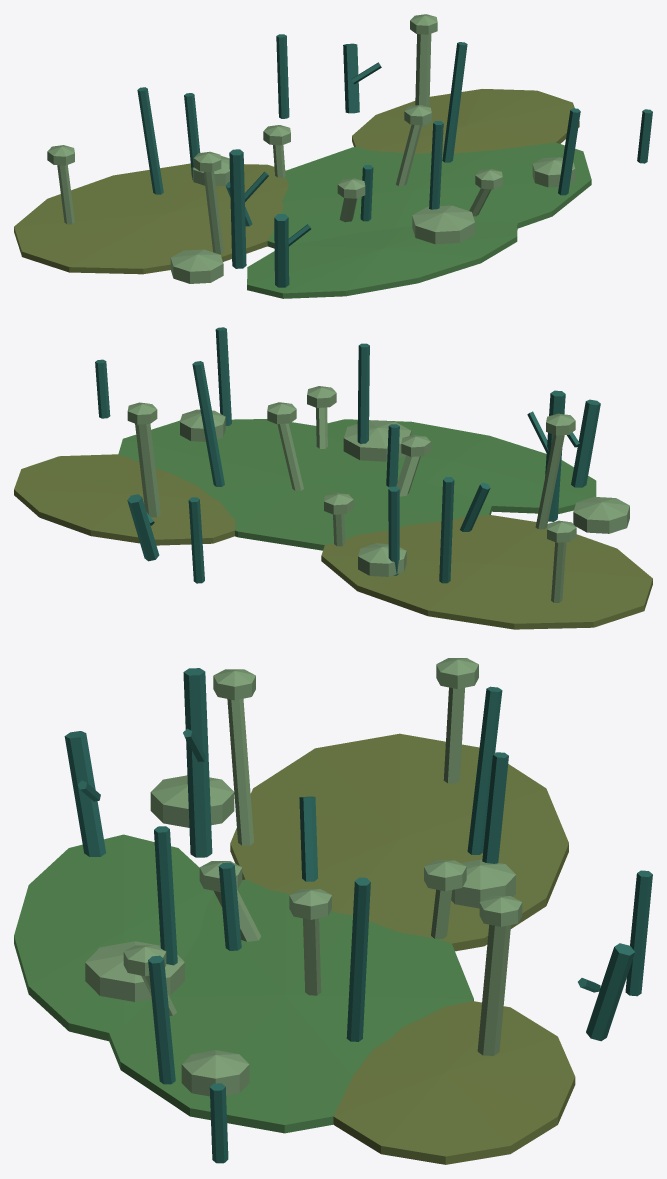
Rendered from vegetation_mat_b.obj.
3 views of the same model, one above another, from view 1: azimuth 30°, elevation 25°; view 2: azimuth 150°, elevation 25°; view 3: azimuth 270°, elevation 25° (orthographic). The views are drawn at different scales.
Parts seen in each view (by area): view 1: mat_0, mat_1, mat_3, mat_2, filter_cup_2, filter_16, filter_cup_0, filter_7, filter_14, filter_12, filter_8, filter_4 (+18 smaller); view 2: mat_0, mat_1, mat_2, mat_3, filter_cup_0, filter_cup_2, filter_7, filter_12, filter_8, filter_14, filter_cup_1, filter_5 (+21 smaller); view 3: mat_1, mat_0, mat_2, mat_3, filter_16, filter_cup_2, filter_12, filter_7, filter_14, filter_cup_0, filter_8, filter_cup_3 (+20 smaller).
Part boxes in pixels (box(x1,y1,x2,y2)): mat_0: box(14, 163, 288, 274); mat_1: box(267, 142, 591, 248); mat_3: box(247, 221, 517, 298); mat_2: box(352, 89, 579, 153); filter_cup_2: box(412, 205, 474, 244); filter_16: box(229, 149, 246, 268); filter_cup_0: box(170, 249, 223, 283); filter_7: box(442, 42, 467, 162); filter_14: box(137, 87, 163, 194); filter_12: box(415, 34, 431, 126); filter_8: box(274, 214, 289, 287); filter_4: box(343, 43, 359, 113); mat_0: box(321, 514, 652, 629); mat_1: box(118, 419, 491, 550); mat_2: box(14, 454, 235, 545); mat_3: box(327, 419, 596, 514); filter_cup_0: box(573, 497, 629, 533); filter_cup_2: box(343, 420, 411, 461); filter_7: box(192, 361, 224, 486); filter_12: box(135, 423, 160, 517); filter_8: box(571, 399, 600, 487); filter_14: box(439, 477, 454, 583); filter_cup_1: box(358, 543, 406, 576); filter_5: box(357, 343, 369, 443); mat_1: box(109, 879, 473, 1133); mat_0: box(230, 733, 568, 951); mat_2: box(333, 1001, 575, 1164); mat_3: box(14, 834, 213, 1041); filter_16: box(183, 668, 212, 857); filter_cup_2: box(85, 941, 184, 1001); filter_12: box(477, 924, 510, 1055); filter_7: box(346, 877, 370, 1041); filter_14: box(467, 686, 502, 854); filter_cup_0: box(150, 775, 234, 827); filter_8: box(64, 731, 105, 856); filter_cup_3: box(181, 1050, 249, 1096).
Size of the model in its own units: 8.76 by 1.78 by 5.55.
